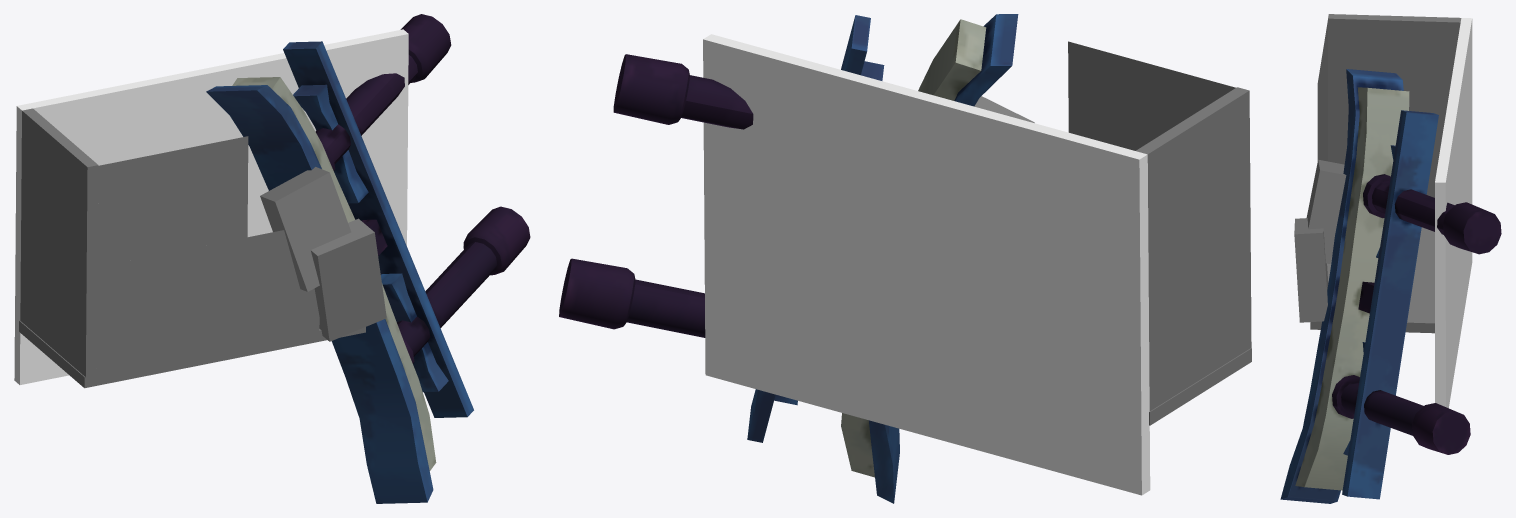
Rendered from TerrainExport.fbx.
The picture shows the model from 3 angles, left to right: view 1: azimuth 30°, elevation 25°; view 2: azimuth 150°, elevation 25°; view 3: azimuth 270°, elevation 25°; orthographic projection. The views are drawn at different scales.
Visible parts, largest first — view 1: Arco1__1_, floor__1_, Plane, Cube__4_, Plane__1_, Cube, Cube__1_, Cube__5_; view 2: floor__1_, Cube__4_, Arco1__1_, Plane__1_, Cube__5_; view 3: Arco1__1_, Cube__4_, floor__1_, Cube, Cube__5_, Cube__1_, Plane__1_.
Part boxes in pixels (bbox=[...]): Arco1__1_: bbox=[206, 14, 530, 503]; floor__1_: bbox=[14, 29, 408, 384]; Plane: bbox=[96, 230, 319, 385]; Cube__4_: bbox=[20, 108, 98, 377]; Plane__1_: bbox=[97, 136, 248, 266]; Cube: bbox=[310, 218, 386, 341]; Cube__1_: bbox=[260, 167, 351, 291]; Cube__5_: bbox=[19, 320, 365, 388]; floor__1_: bbox=[703, 34, 1150, 495]; Cube__4_: bbox=[1136, 87, 1251, 410]; Arco1__1_: bbox=[559, 14, 1018, 503]; Plane__1_: bbox=[1068, 41, 1235, 150]; Cube__5_: bbox=[1149, 348, 1251, 425]; Arco1__1_: bbox=[1280, 69, 1501, 503]; Cube__4_: bbox=[1328, 14, 1461, 197]; floor__1_: bbox=[1435, 18, 1472, 407]; Cube: bbox=[1294, 218, 1328, 322]; Cube__5_: bbox=[1310, 227, 1434, 333]; Cube__1_: bbox=[1306, 159, 1346, 263]; Plane__1_: bbox=[1317, 20, 1327, 160].
Size of the model in its own units: 21.47 by 17.67 by 9.15.
Materials: 3 (1 with a texture image).
